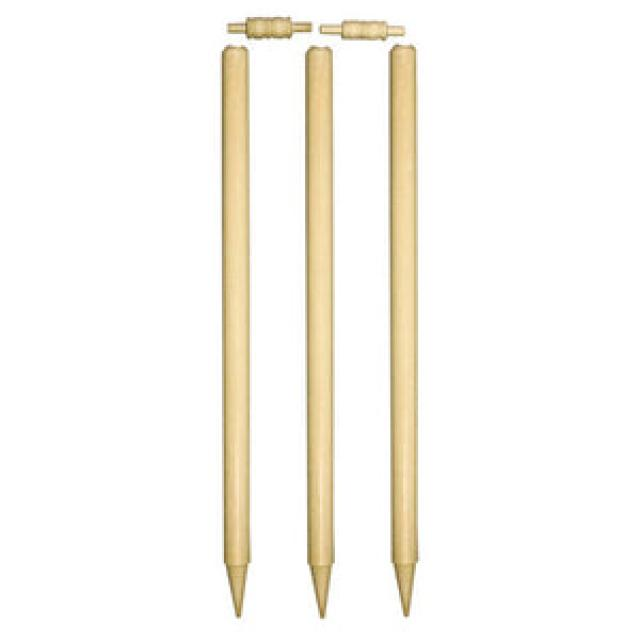stump: (222, 7, 419, 618)
